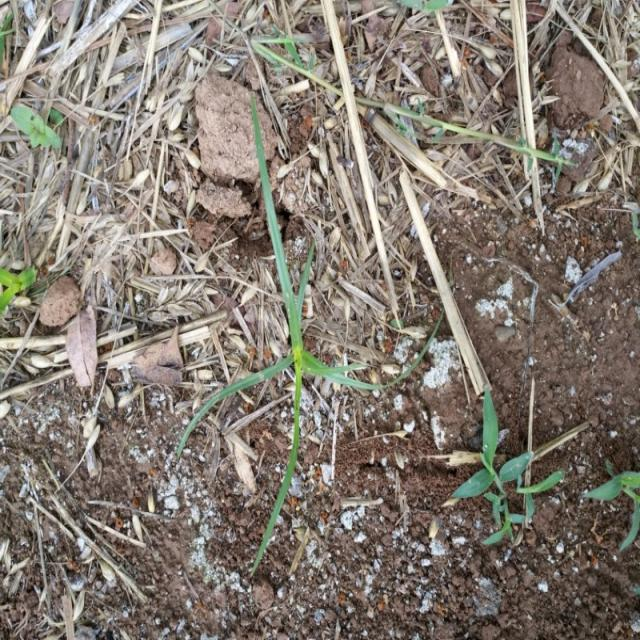sedge: (192, 126, 378, 540)
